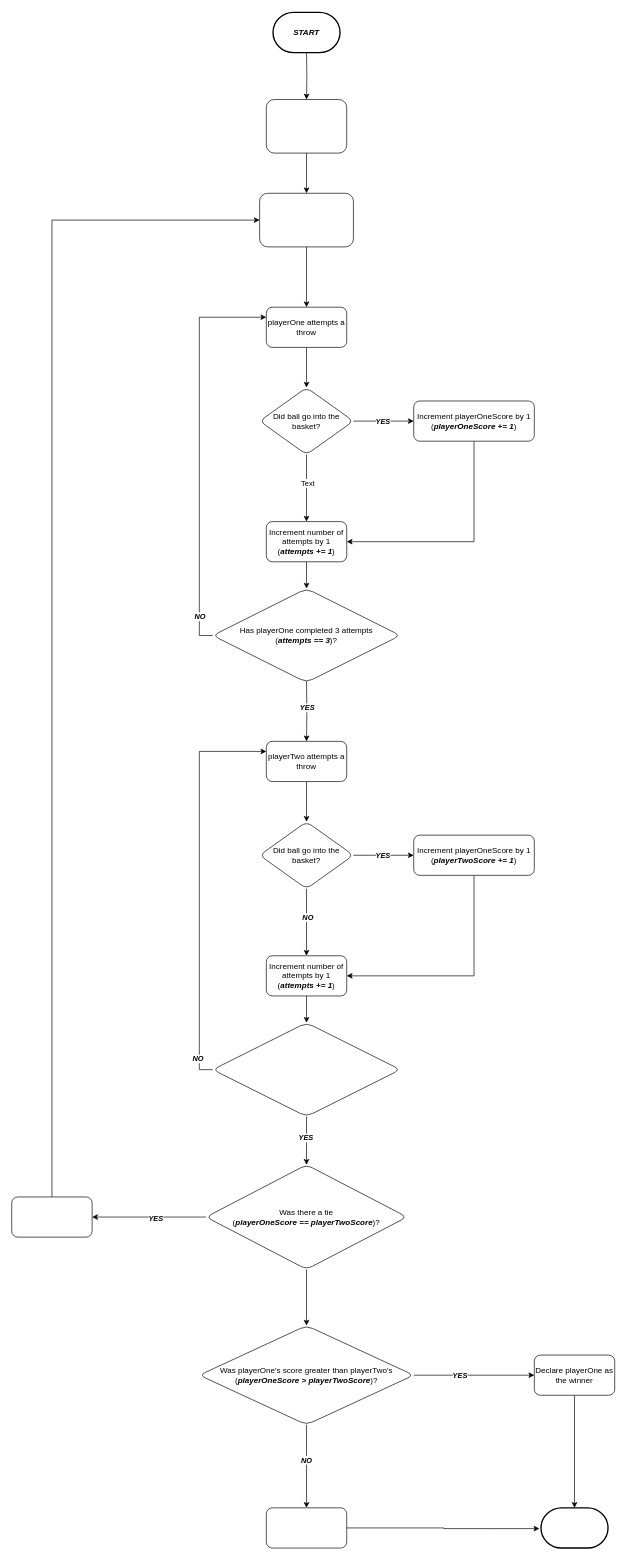
Image size: 626x1560. Some labels were removed from this diagram. The centre of each missing label's shape, as x and y in pixels:
"DECLARE playerOneScore , playerTwoScore , noOfTies and attempts" belongs at point 306,126.
"Declare playerTwo as the winner" belongs at point 306,1527.
"END" belongs at point 574,1527.
"Has playerTwo completed 3 attempts ( attempts == 3 )?" belongs at point 306,1069.
"Increment number of ties by 1 ( noOfTies += 1 )" belongs at point 51,1216.
"SET playerOneScore , playerTwoScore , and attempts to 0" belongs at point 306,220.
